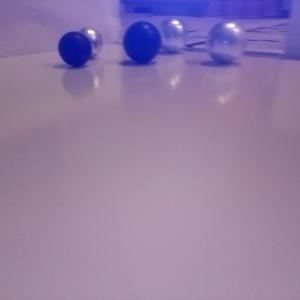alive_ball: (206, 21, 246, 63), (159, 18, 186, 53), (76, 28, 103, 58)
dead_ball: (122, 21, 160, 63), (57, 31, 91, 67)
